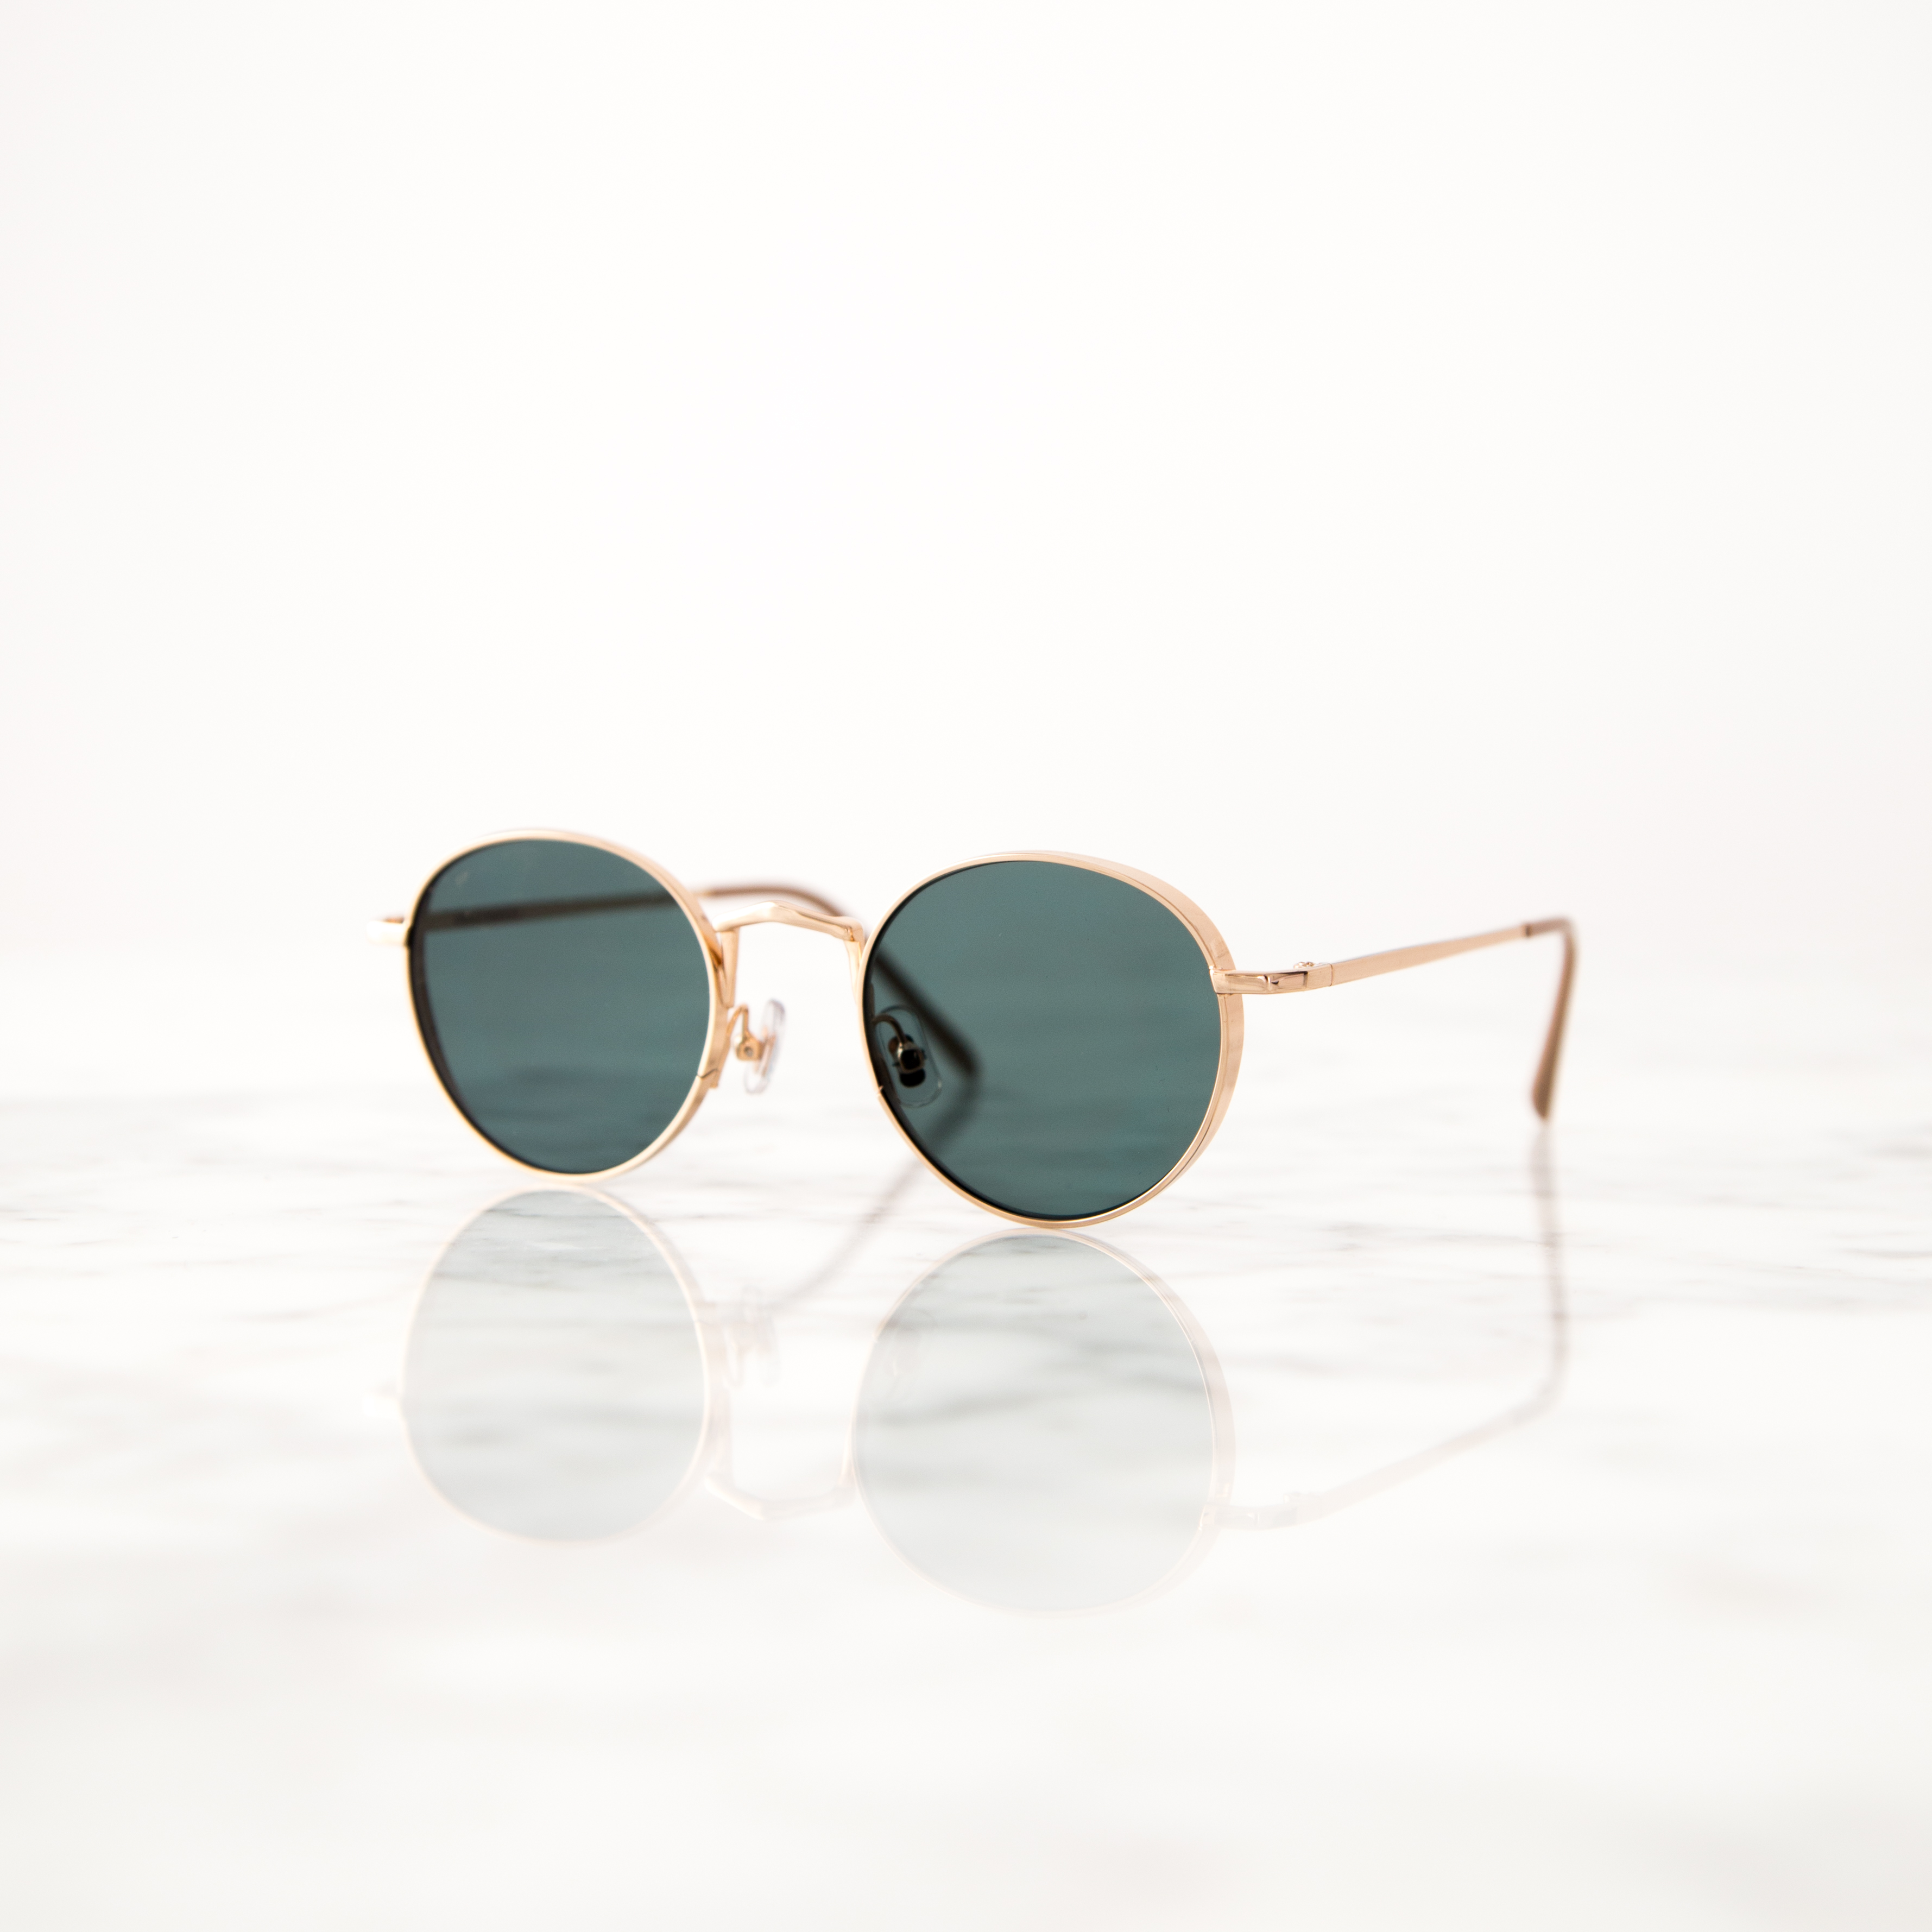lente: (366, 794, 1592, 1286)
